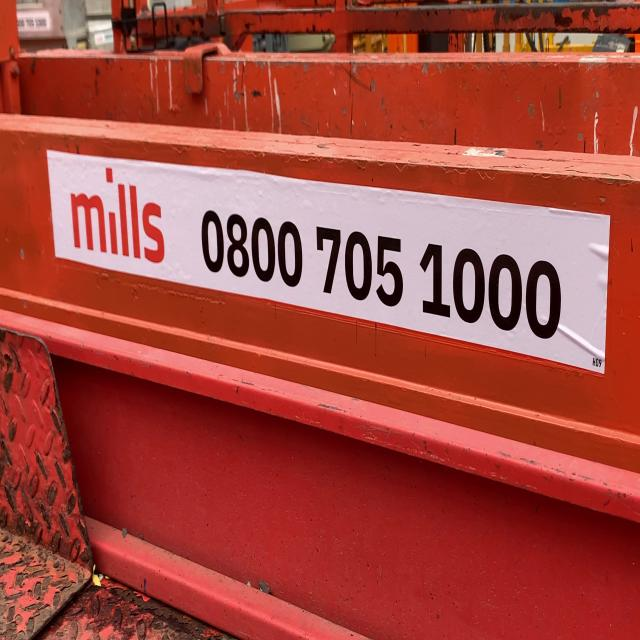Adesivo Longo: (44, 146, 612, 379)
